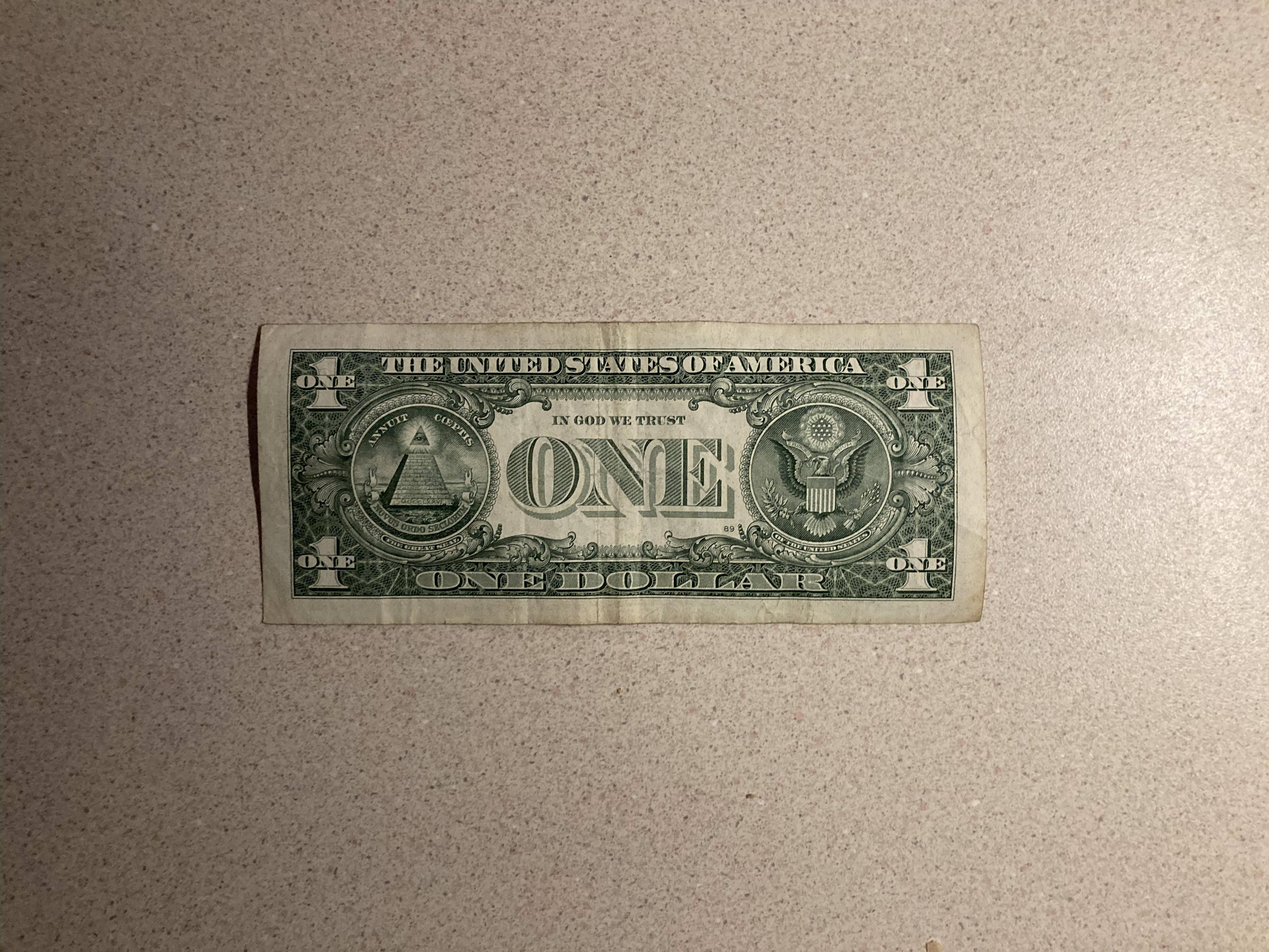one-back: (256, 317, 986, 626)
